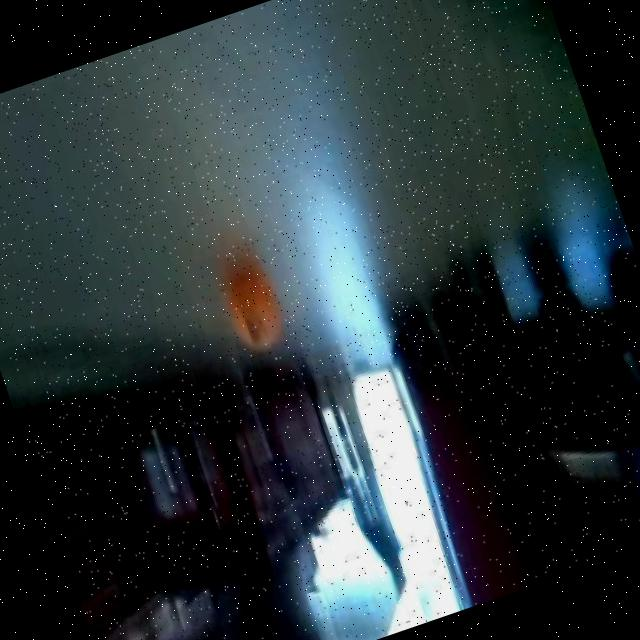ping-pong-ball: (211, 264, 294, 362)
